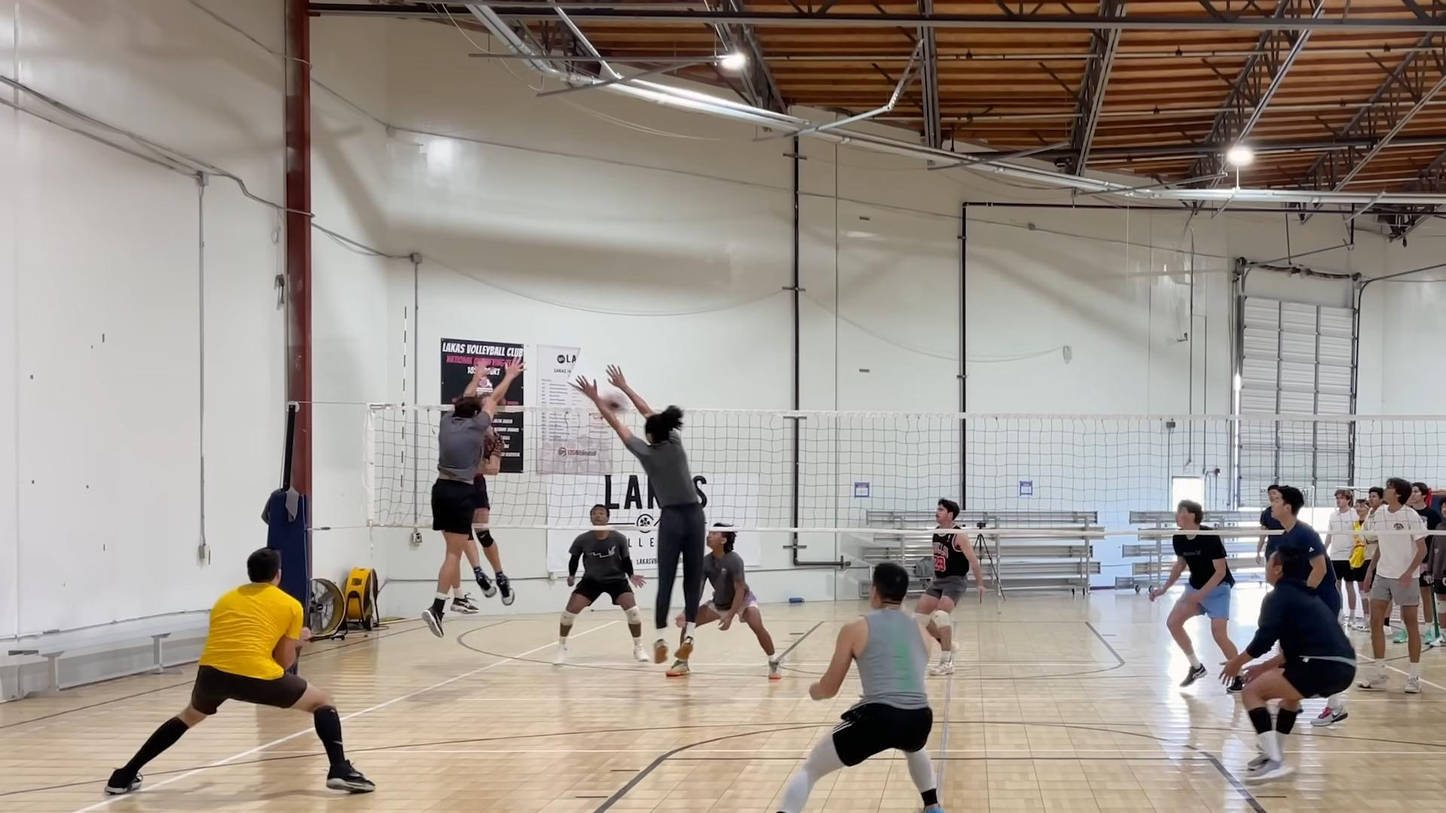attacco: (473, 390, 522, 602)
muro: (568, 353, 704, 681), (421, 353, 527, 635)
